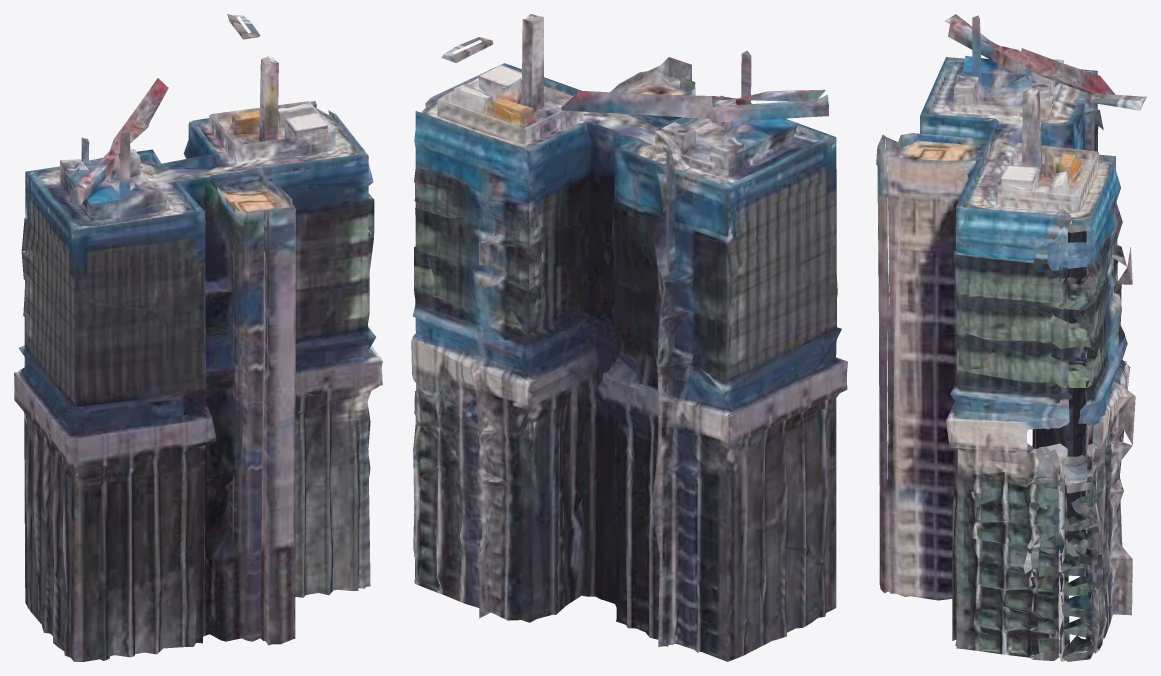
3 renders of one model, left to right at view 1: azimuth 30°, elevation 25°; view 2: azimuth 150°, elevation 25°; view 3: azimuth 270°, elevation 25°, orthographic. The views are drawn at different scales.
Parts seen in each view (by area): view 1: Mesh_0; view 2: Mesh_0; view 3: Mesh_0.
Part boxes in pixels (box(x1,y1,x2,y2)): Mesh_0: box(14, 14, 382, 661); Mesh_0: box(411, 14, 847, 661); Mesh_0: box(876, 14, 1146, 661).
Size of the model in its own units: 49 by 74.2 by 34.16.
Materials: 2 (2 with a texture image).
